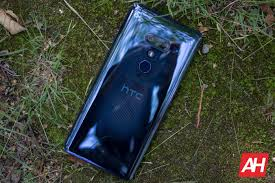htc: (56, 3, 202, 178)
